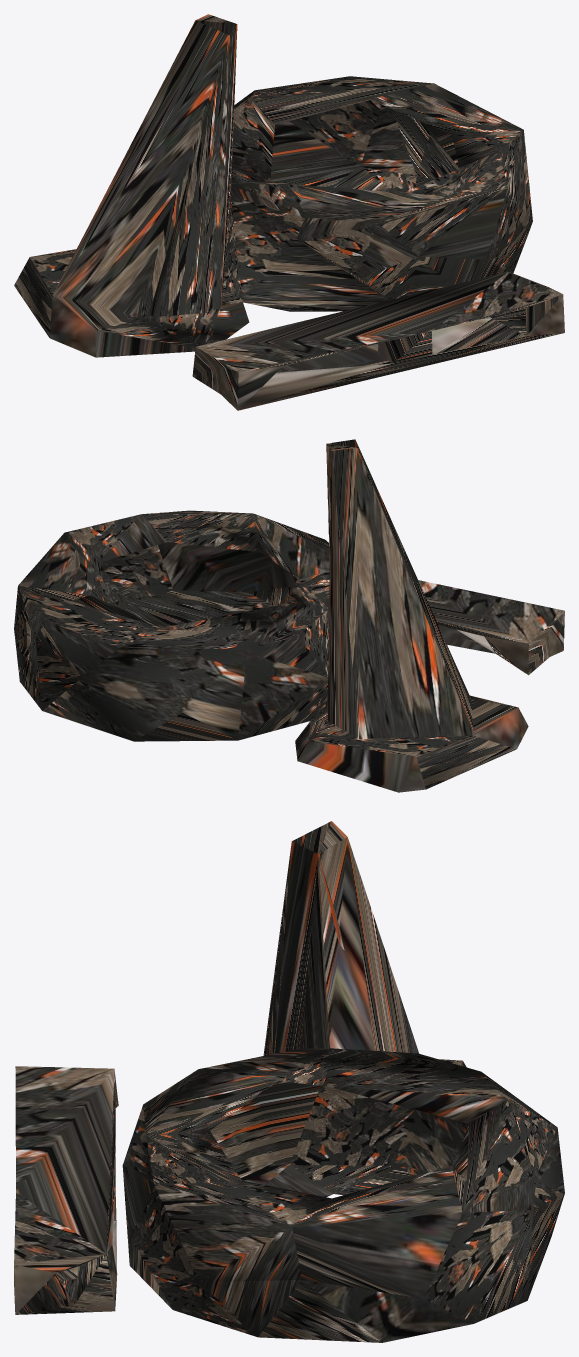
Rendered from Road_Debris_Cluster_2.glb.
3 renders of one model, top to bottom at view 1: azimuth 30°, elevation 25°; view 2: azimuth 150°, elevation 25°; view 3: azimuth 270°, elevation 25°, orthographic. The views are drawn at different scales.
Parts seen in each view (by area): view 1: output_unwrapped; view 2: output_unwrapped; view 3: output_unwrapped.
Boxes of the visible parts, x1,y1,x2,y2 form: output_unwrapped: [14, 14, 564, 410]; output_unwrapped: [14, 439, 564, 792]; output_unwrapped: [14, 821, 564, 1342].
Size of the model in its own units: 3.17 by 1.8 by 2.58.
1 material, 1 textured.
